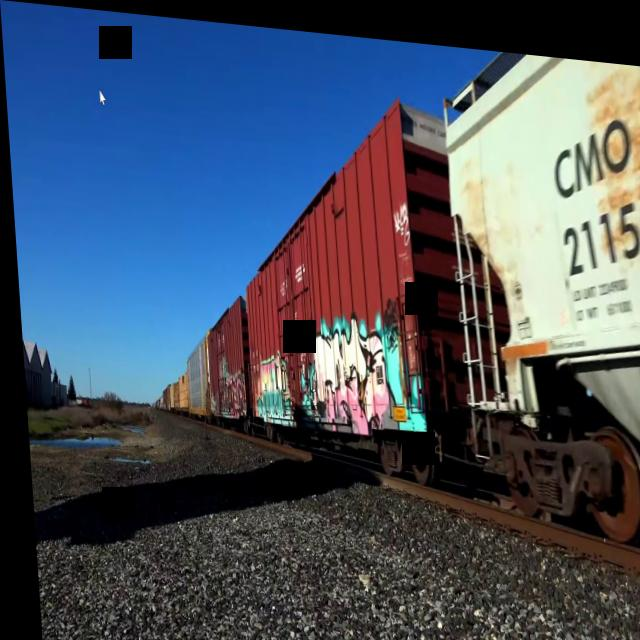autorack: (179, 324, 209, 422)
boxcar: (229, 67, 459, 480), (199, 285, 250, 431)
hopper: (432, 35, 640, 543)
